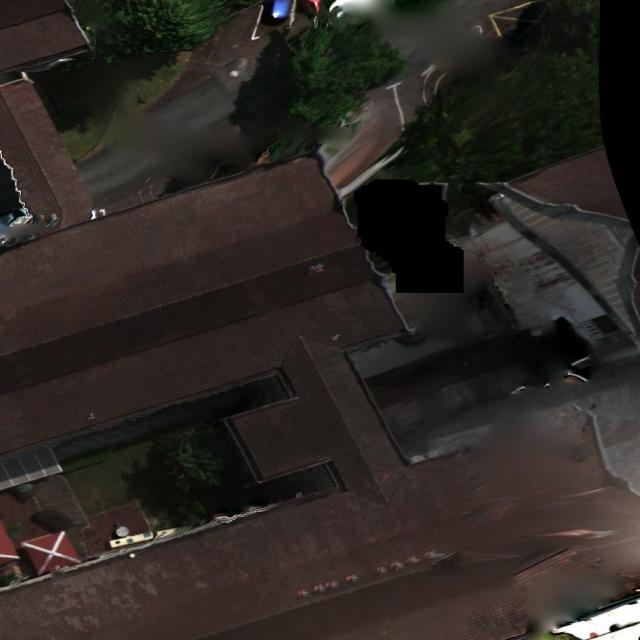Tree: (388, 0, 603, 211), (283, 0, 414, 126), (94, 0, 233, 63), (150, 421, 229, 530), (199, 0, 268, 15)
